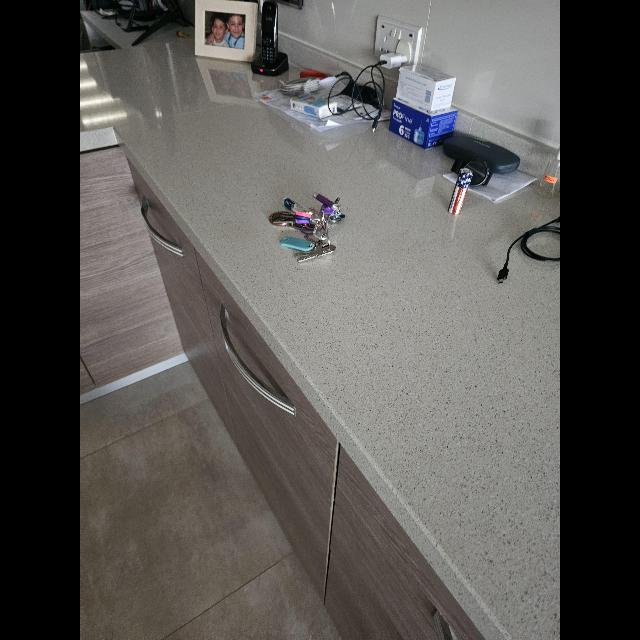Keys: (268, 192, 346, 262)
